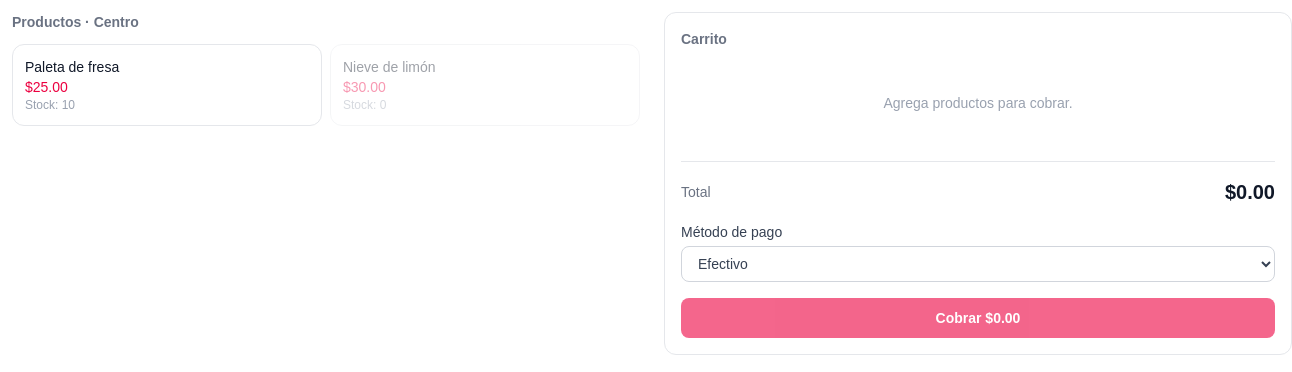
Test case: SalePOS › agrega un producto al carrito y actualiza el total
Expected: the button "Cobrar $0.00" is shown, [681,298,1275,338]
Click the button "Paleta de fresa $25.00 Stock: 10": (72,67) [12,44,322,126]
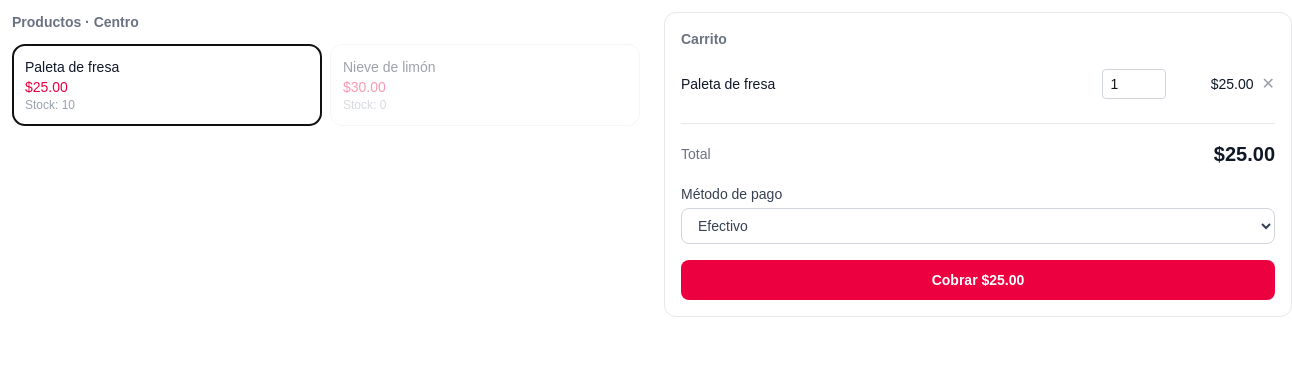
Result: the button "Cobrar $25.00" is shown at [681,260,1275,300]
